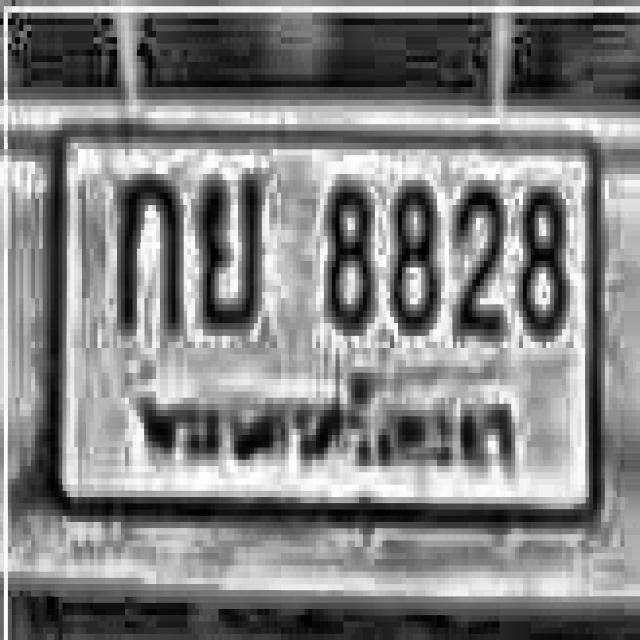license-plate: (44, 111, 619, 551)
